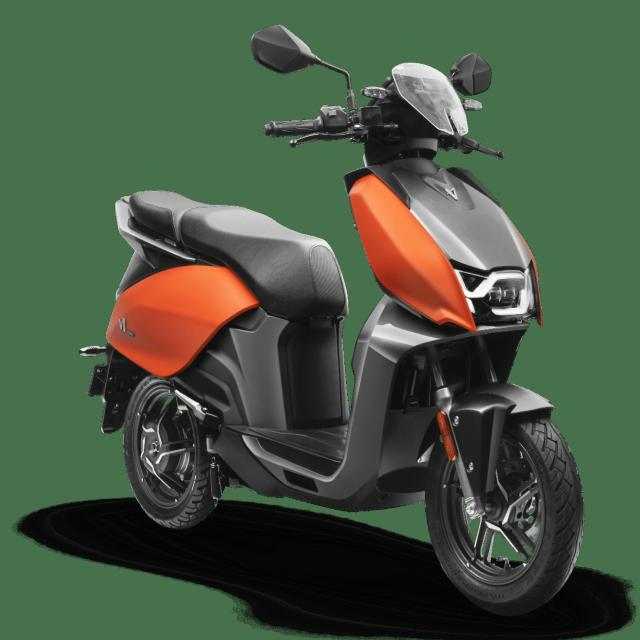motorcycle: (80, 25, 584, 615)
